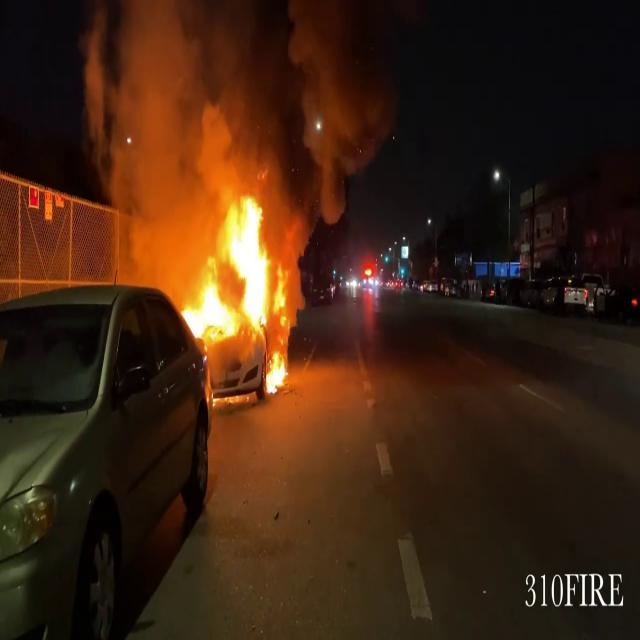Fire: (186, 190, 294, 388)
Smoke: (77, 0, 400, 240)
